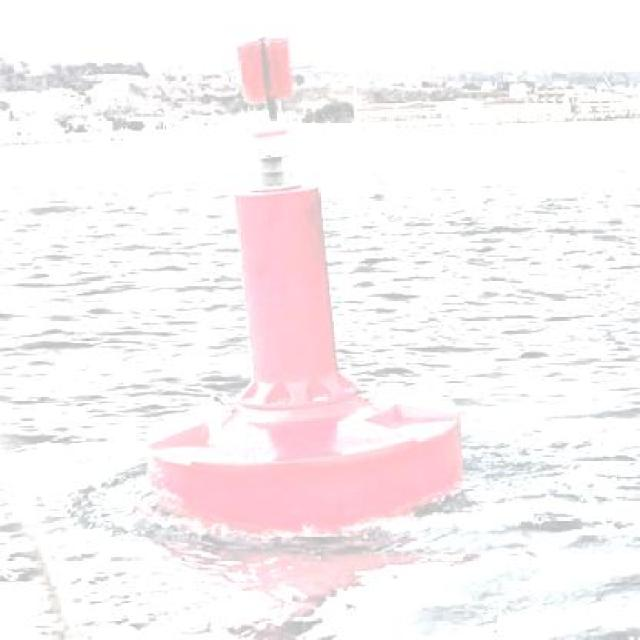Red Buoy: (158, 38, 462, 525)
